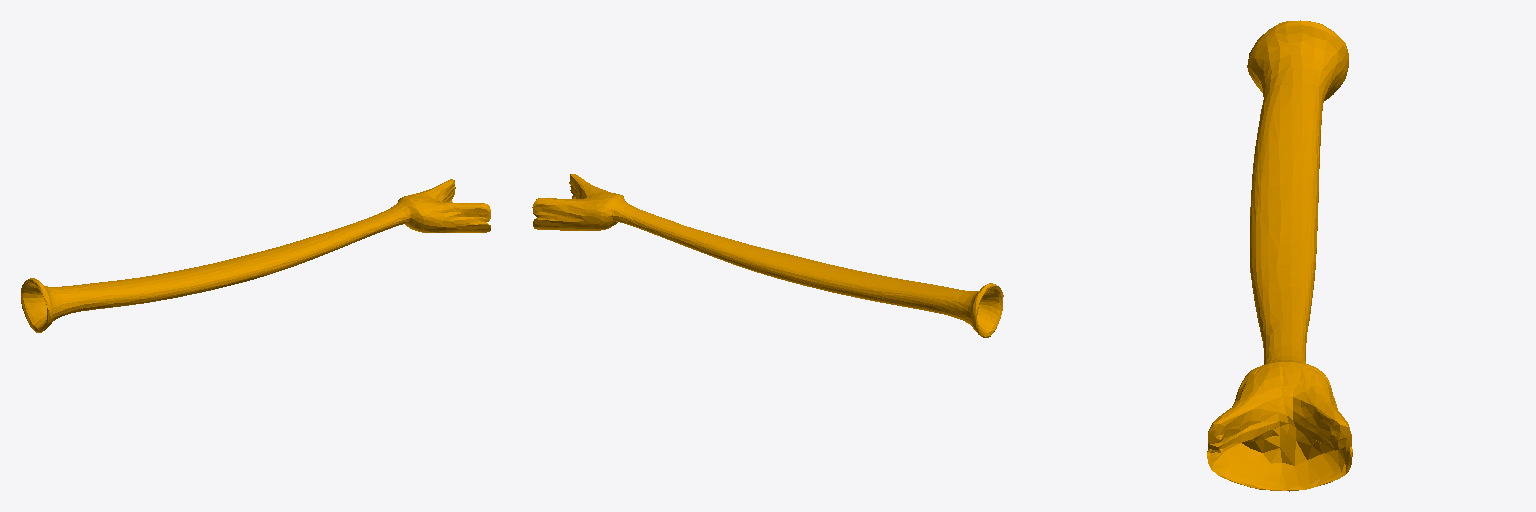
robot.urdf — green_brush_segment:
<?xml version="1.0"?>
<robot name="green_brush_segment">
  <link name="green_brush_segment">
    <visual>
      <origin xyz="0 0 0" rpy="0 0 0"/>
      <geometry>
        <mesh filename="green_brush_segment.obj" scale="1 1 1"/>
      </geometry>
    </visual>
    <collision>
      <origin xyz="0 0 0" rpy="0 0 0"/>
      <geometry>
        <mesh filename="green_brush_segment.obj" scale="1 1 1"/>
      </geometry>
    </collision>
    <inertial>
      <density value="400.0"/>
    </inertial>
  </link>
</robot>

--- Facts derived from the render (not from the file) ---
Views: 3 orthographic renders of the robot side by side, from view 1: azimuth 30°, elevation 25°; view 2: azimuth 150°, elevation 25°; view 3: azimuth 270°, elevation 25°.
Robot: green_brush_segment — 1 links, 0 joints (none); root link green_brush_segment; default pose: all joints at 0.
Visible links, largest first — view 1: green_brush_segment; view 2: green_brush_segment; view 3: green_brush_segment.
Link boxes in pixels (left/top/right/bottom): green_brush_segment: left=21, top=179, right=490, bottom=332; green_brush_segment: left=532, top=174, right=1003, bottom=337; green_brush_segment: left=1207, top=20, right=1352, bottom=491.
Bounding box of the posed robot: 0.2597 × 0.0415 × 0.0291 m (x, y, z).
Meshes: 1 distinct files referenced, 1 mesh visuals loaded (1 OBJ).
